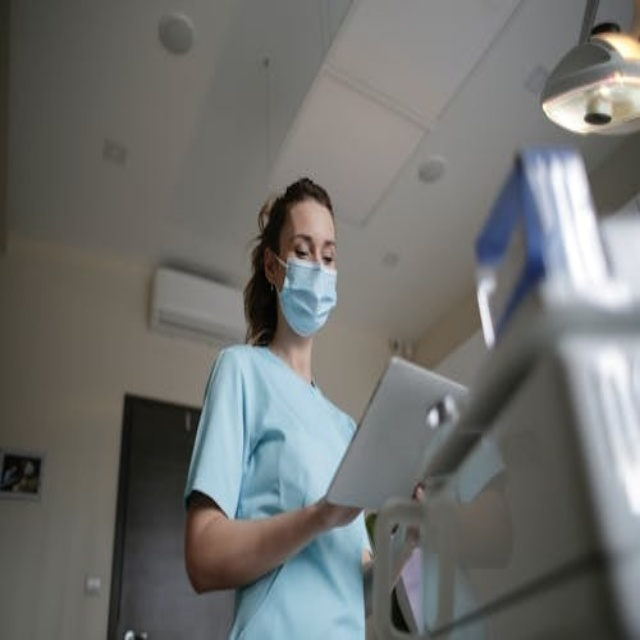Mascara: (272, 249, 337, 338)
Sin_gafas: (283, 219, 344, 269)
